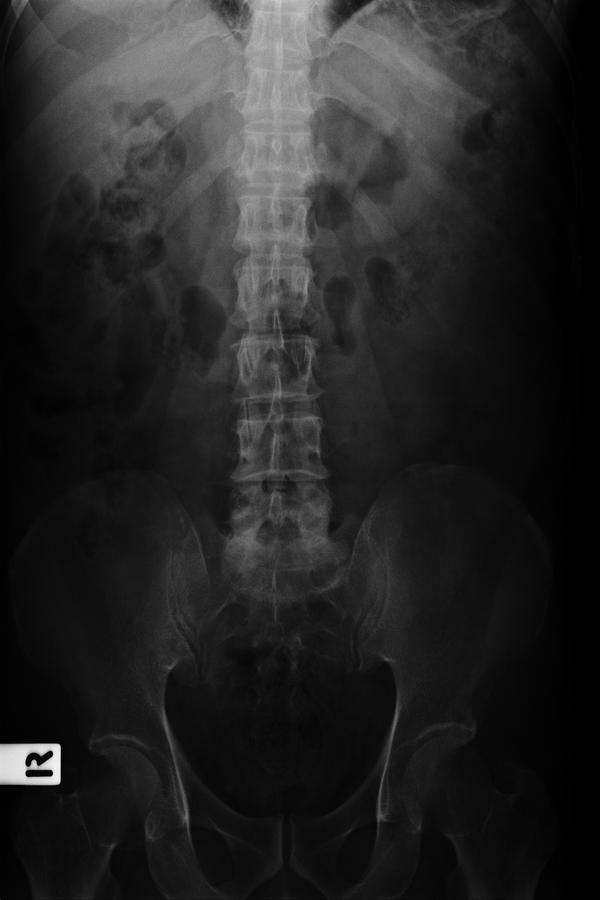not lumbar scoliosis: (215, 224, 346, 574)
